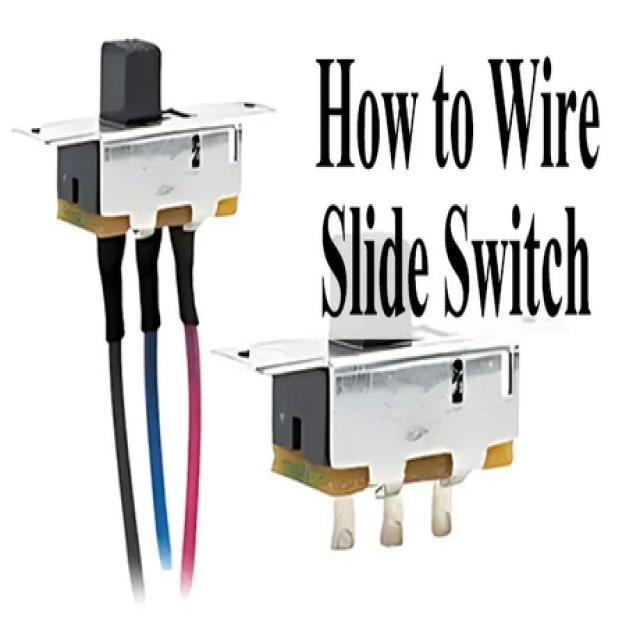electronics: (24, 43, 266, 595), (216, 314, 518, 545), (217, 330, 518, 545), (18, 45, 253, 236), (444, 202, 589, 314), (444, 206, 589, 314), (323, 202, 434, 315), (487, 58, 597, 167), (316, 58, 416, 169), (316, 58, 416, 167), (430, 67, 476, 167), (344, 234, 408, 273), (387, 275, 391, 284), (330, 288, 334, 295), (512, 147, 515, 150)
